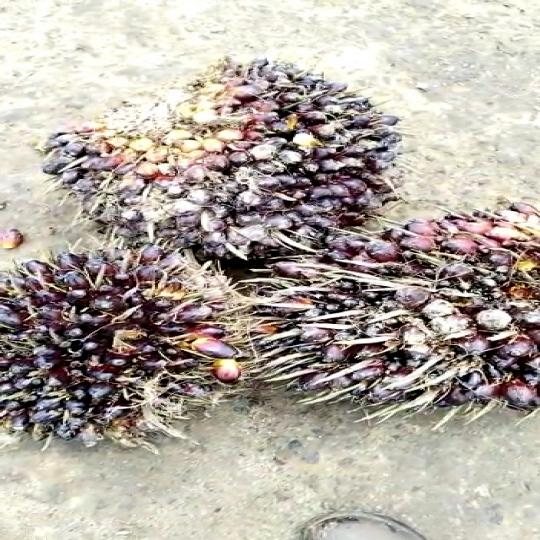kurang masak: (59, 44, 418, 262), (0, 217, 273, 469), (247, 196, 540, 418)
